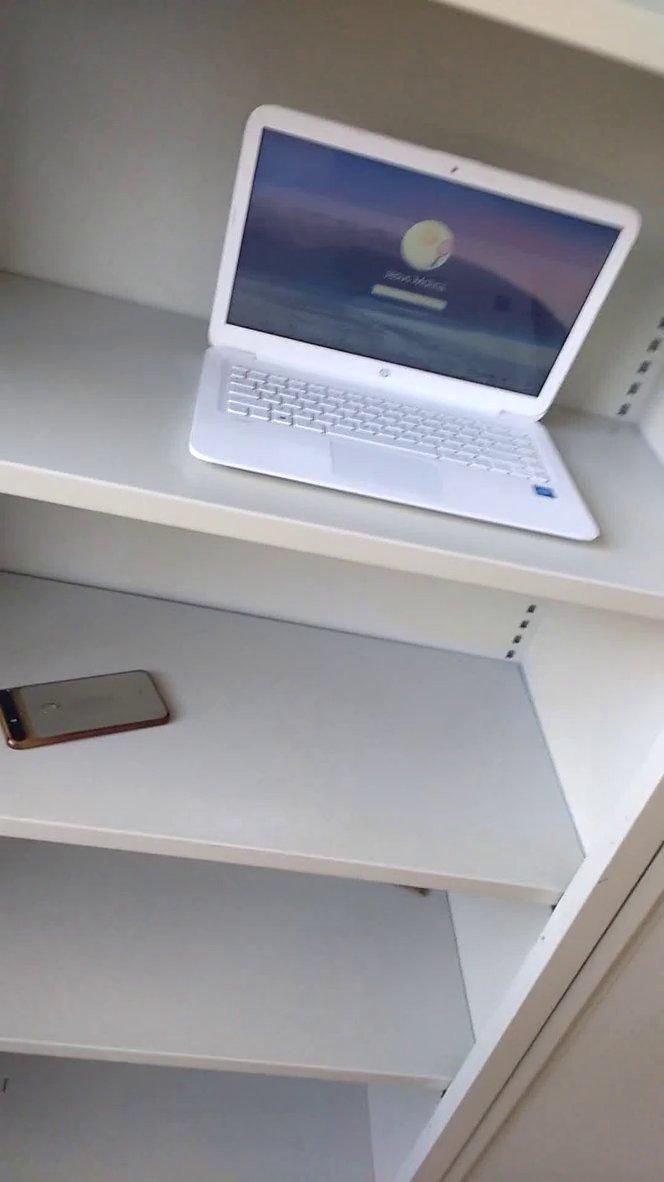laptop: (169, 89, 651, 559)
phone: (1, 646, 177, 756)
